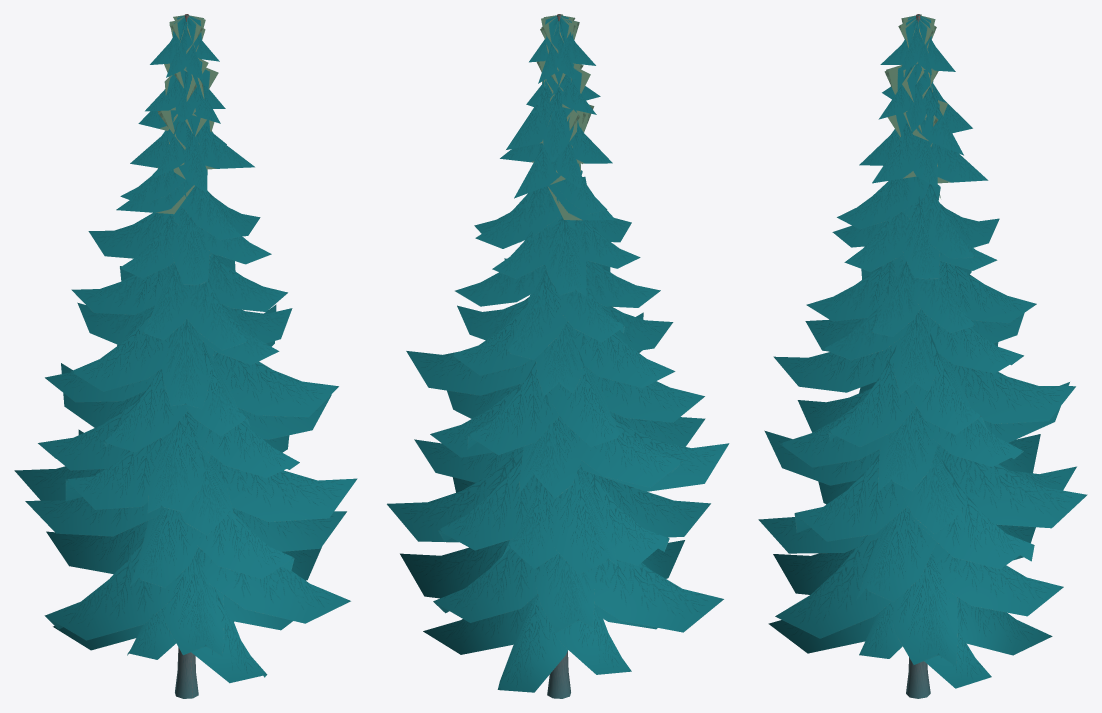
3 renders of one model, left to right at view 1: azimuth 30°, elevation 25°; view 2: azimuth 150°, elevation 25°; view 3: azimuth 270°, elevation 25°, orthographic.
Visible parts, largest first — view 1: submesh_1, submesh_0; view 2: submesh_1, submesh_0; view 3: submesh_1, submesh_0.
Boxes of the visible parts, x1,y1,x2,y2 form: submesh_1: [14, 15, 357, 683]; submesh_0: [175, 14, 198, 698]; submesh_1: [387, 14, 729, 692]; submesh_0: [547, 14, 570, 698]; submesh_1: [758, 14, 1087, 688]; submesh_0: [906, 14, 930, 698].
Size of the model in its own units: 5.22 by 11.18 by 4.92.
Materials: 2 (2 with a texture image).
